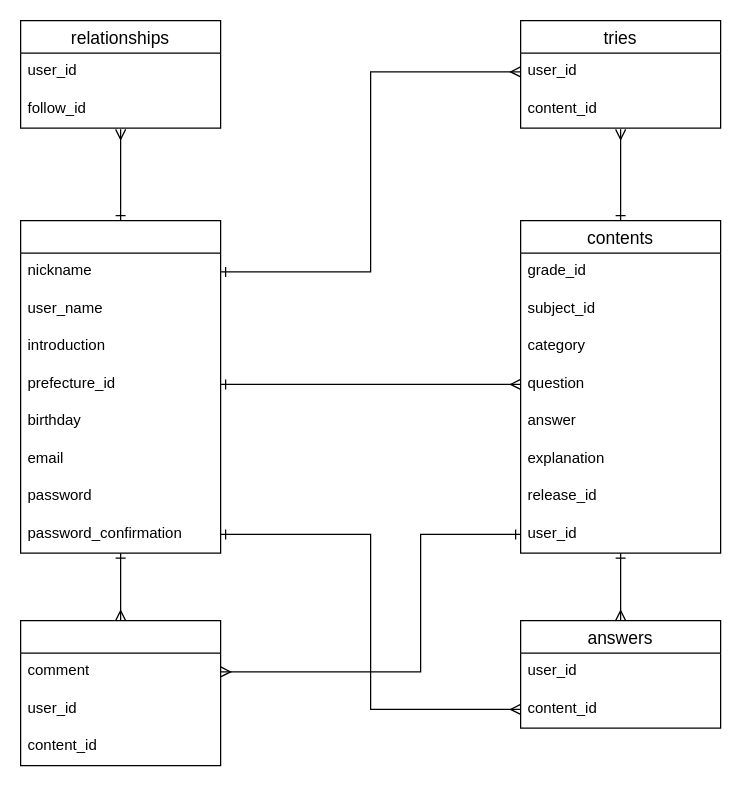
Some shapes in this 741 by 786 pixel diagram are drawn without their labels. The box of each missing label's shape, as (x1, y1, x2, y2) in pixels:
comments: (19, 619, 221, 766)
users: (19, 219, 221, 553)
